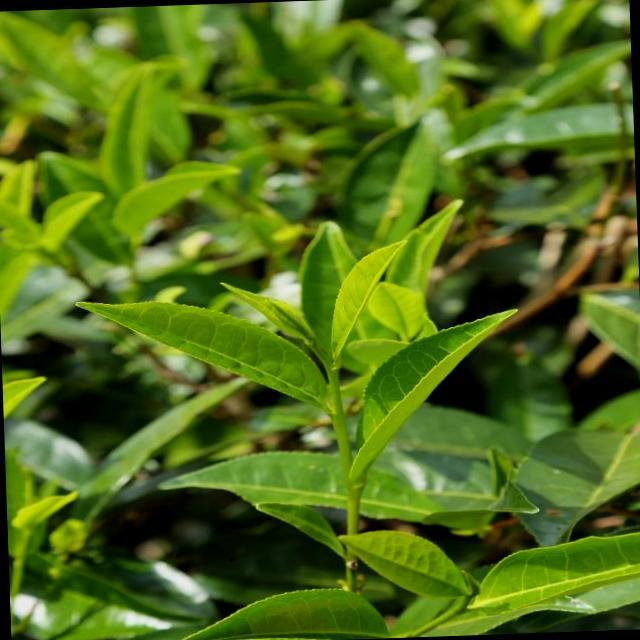Stem: (328, 368, 338, 381)
